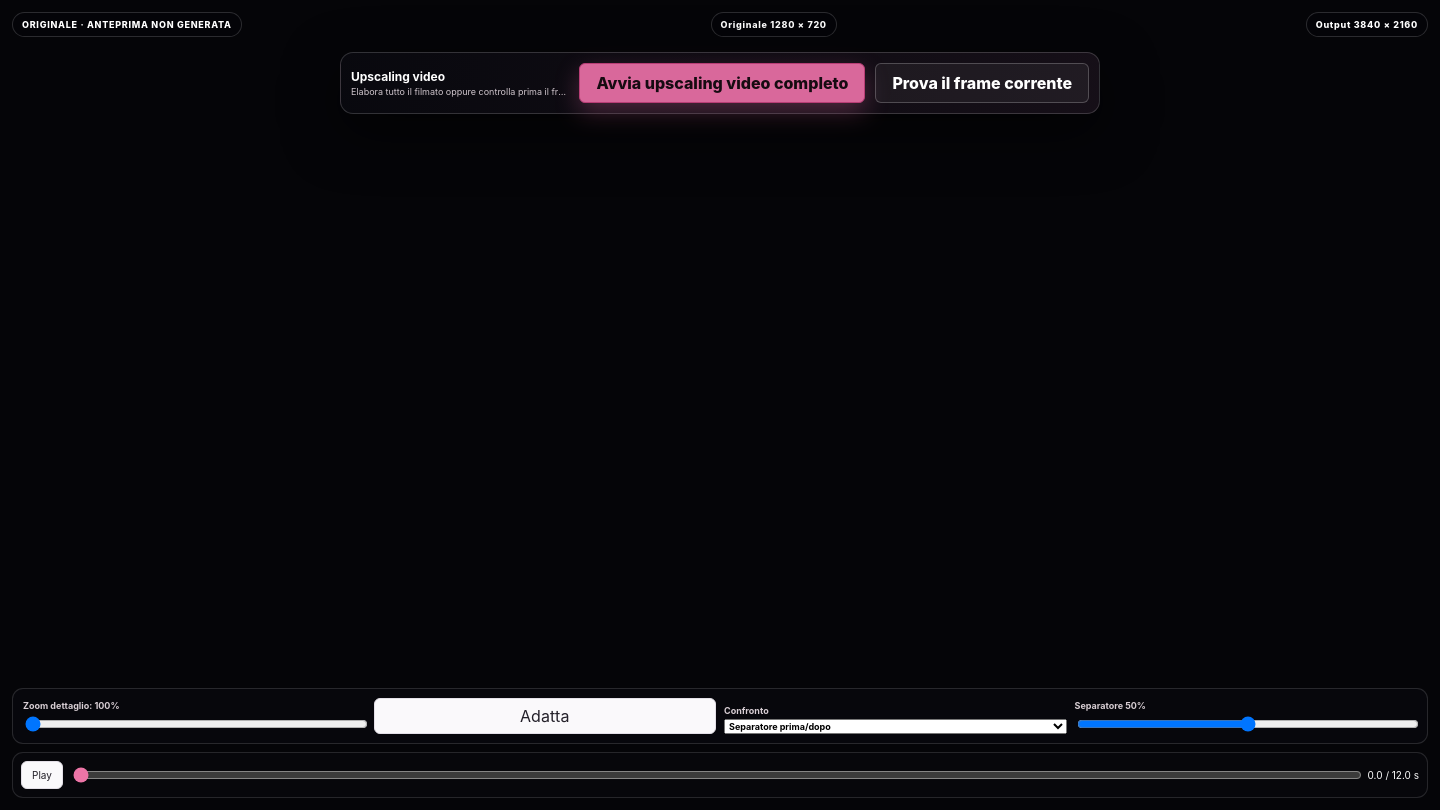
Test: UpscalerPreview video export › mantiene il progresso Canvas locale separato dalla percentuale e non mostra istruzioni Gradio
The width and height of the screenshot is (1440, 810).
Click the button "Avvia upscaling video completo": (722, 83) [579,63,865,103]
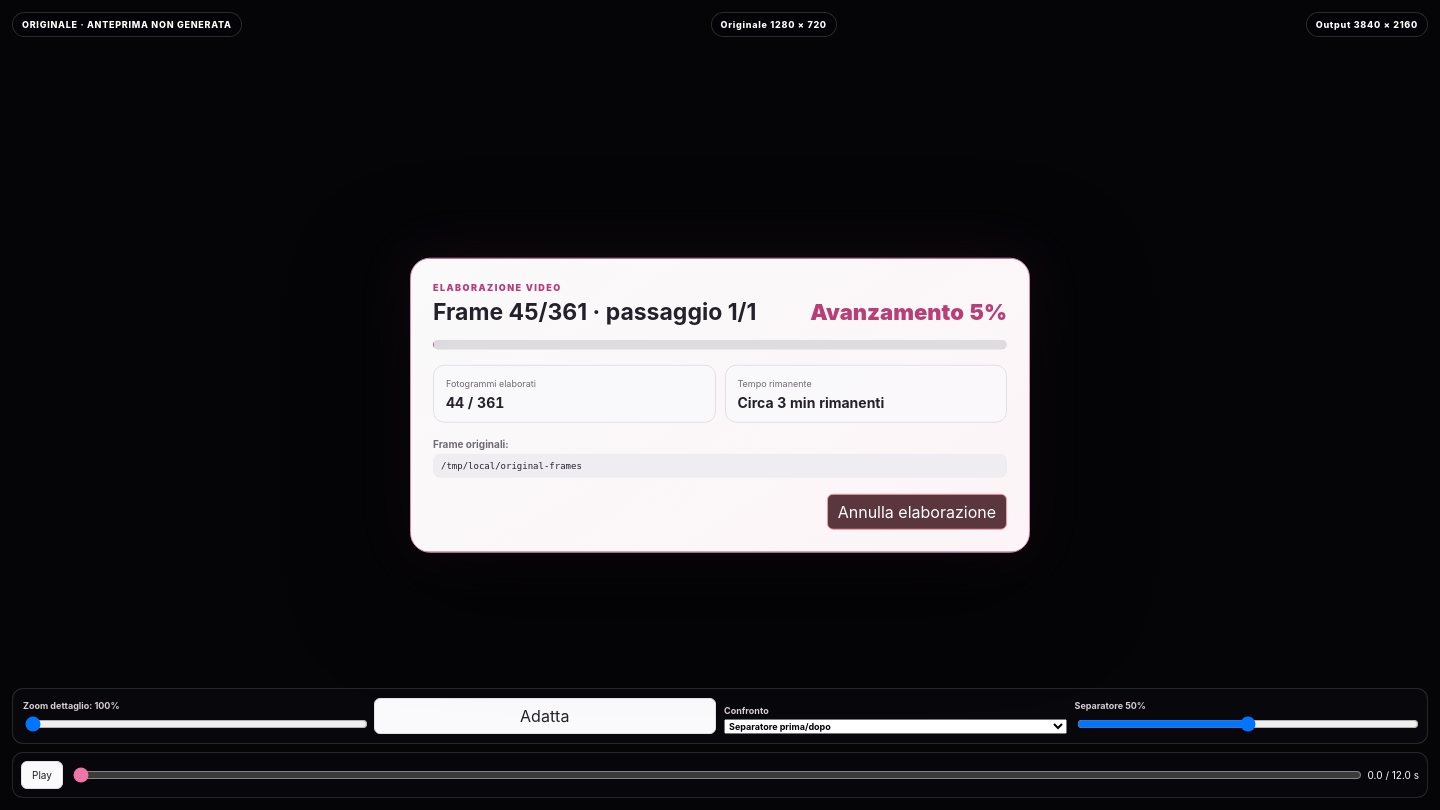
Now the text "Frame 45/361 · passaggio 1/1" is shown, box [433,299,792,325]
Now the text labelled "Avanzamento 5%" is shown, box [810,299,1007,325]
Now the text "/tmp/local/original-frames" is shown, box [433,453,1007,477]
